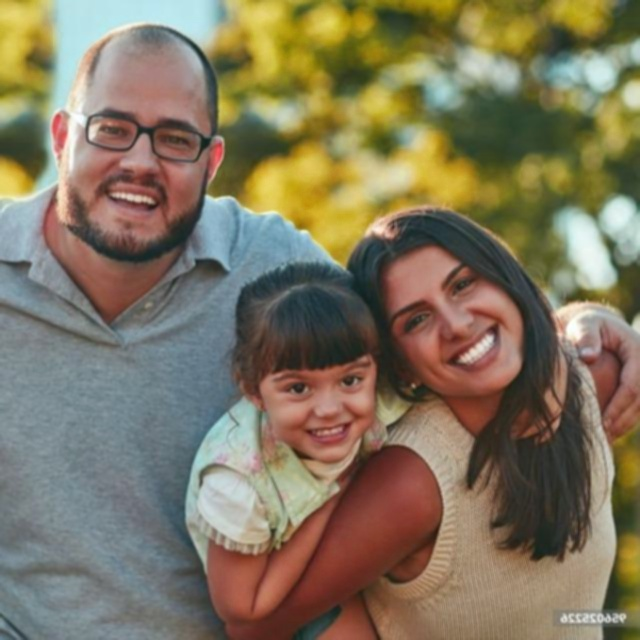Sin_Casco_Mascarrilla: (52, 22, 220, 258), (350, 204, 538, 393), (235, 266, 375, 459)
